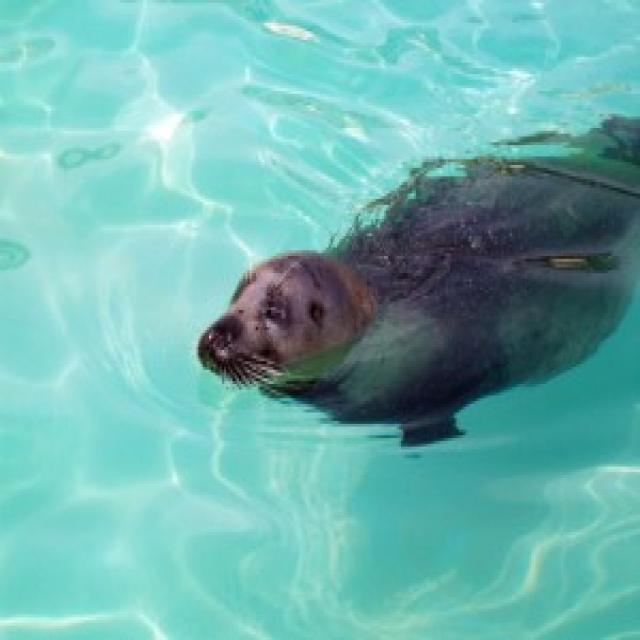Seal: (192, 94, 640, 457)
